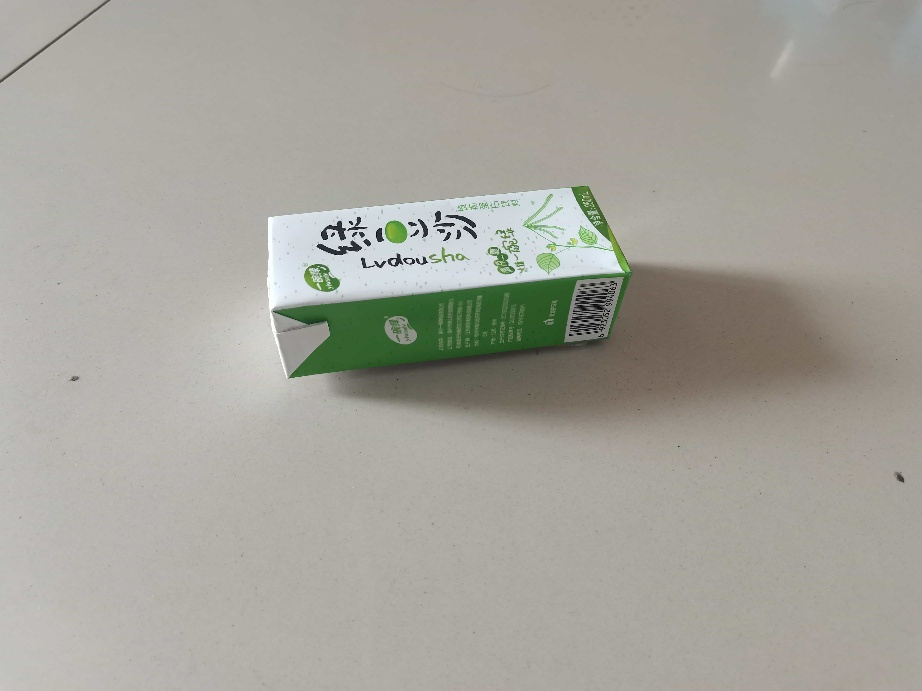milk box: (257, 179, 637, 384)
